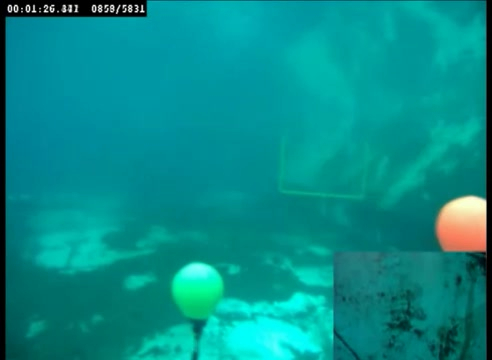channel: (275, 129, 373, 202)
